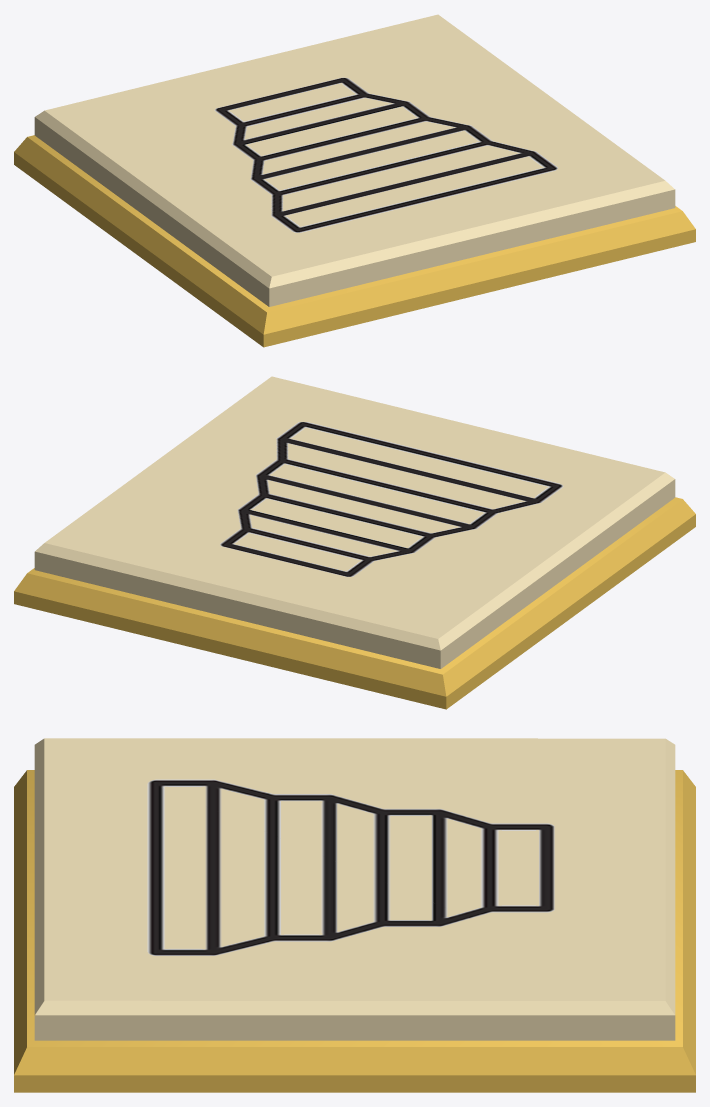
File: sDevice.fbx
3 renders of one model, top to bottom at view 1: azimuth 30°, elevation 25°; view 2: azimuth 150°, elevation 25°; view 3: azimuth 270°, elevation 25°, orthographic. The views are drawn at different scales.
Visible parts, largest first — view 1: footplateUp, footplate2; view 2: footplateUp, footplate2; view 3: footplateUp, footplate2.
Boxes of the visible parts, bbox=[...] form: footplateUp: bbox=[34, 14, 675, 306]; footplate2: bbox=[14, 135, 695, 347]; footplateUp: bbox=[34, 376, 675, 668]; footplate2: bbox=[14, 497, 695, 709]; footplateUp: bbox=[34, 738, 675, 1040]; footplate2: bbox=[14, 770, 695, 1092].
Size of the model in its own units: 242 by 30.92 by 242.
Materials: 1 (1 with a texture image).
